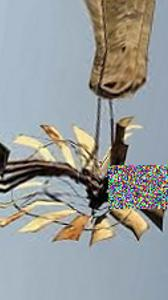faulty: (7, 111, 148, 177)
